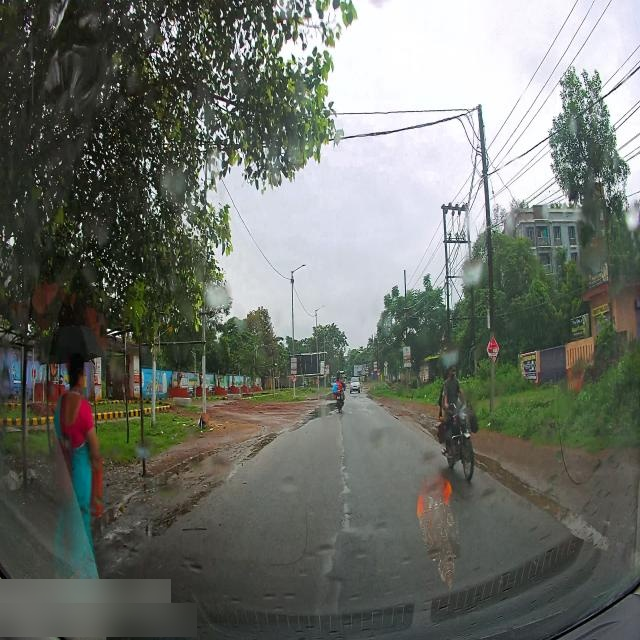pothole: (98, 452, 244, 537)
